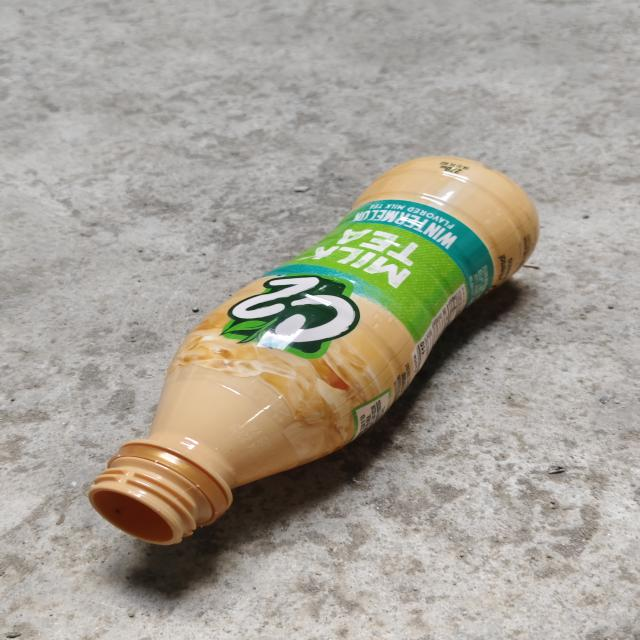Bottle: (89, 157, 539, 545)
